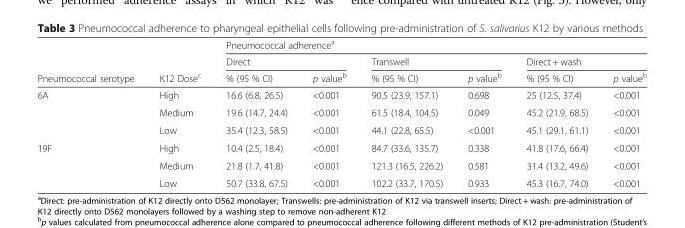table: (36, 37, 646, 188)
table column: (36, 37, 146, 188), (358, 37, 454, 188), (212, 37, 299, 188), (513, 37, 600, 188), (146, 37, 212, 188), (299, 37, 358, 188), (454, 37, 513, 188), (600, 37, 646, 188)
table column header: (36, 37, 646, 86)
table row: (36, 68, 646, 86), (36, 103, 646, 121), (36, 138, 646, 156), (36, 156, 646, 174), (36, 86, 646, 103), (36, 121, 646, 138), (36, 52, 646, 68), (36, 37, 646, 52), (36, 174, 646, 188)
table spanning cell: (212, 37, 646, 52), (36, 86, 146, 138), (36, 138, 146, 188), (36, 37, 146, 86), (146, 37, 212, 86), (358, 52, 513, 68), (212, 52, 358, 68), (513, 52, 646, 68)
